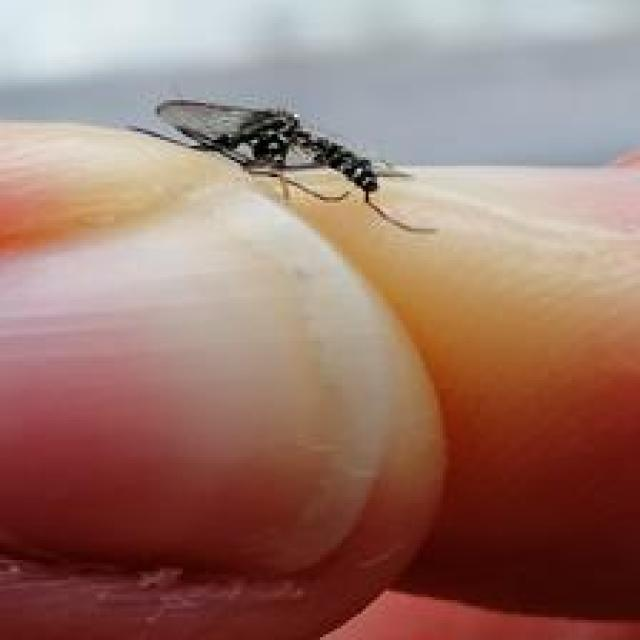Aedes albopictus: (127, 96, 439, 236)
